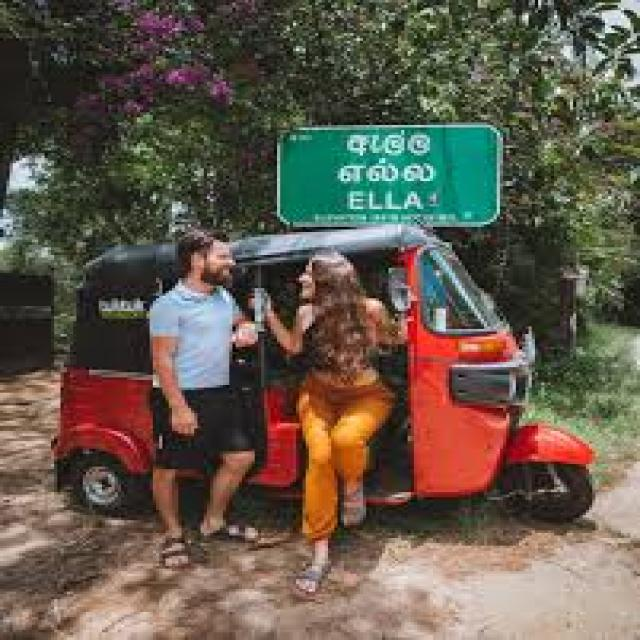tuktuk: (28, 214, 612, 592)
